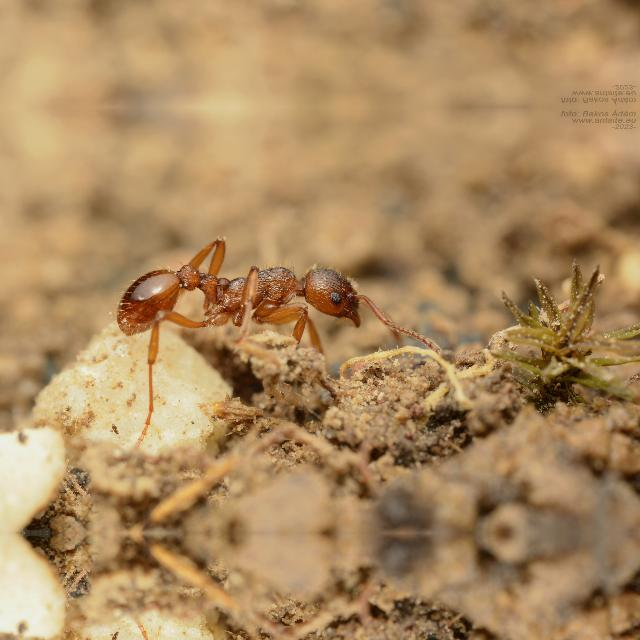Myrmica: (102, 232, 394, 362)
